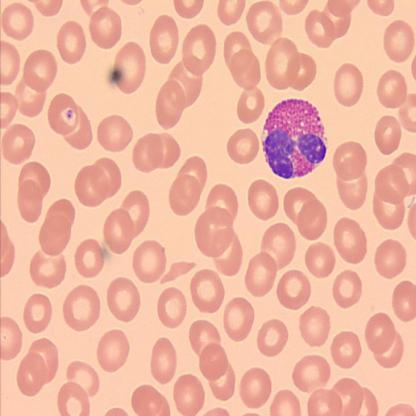Eosinophil: (258, 96, 328, 180)
